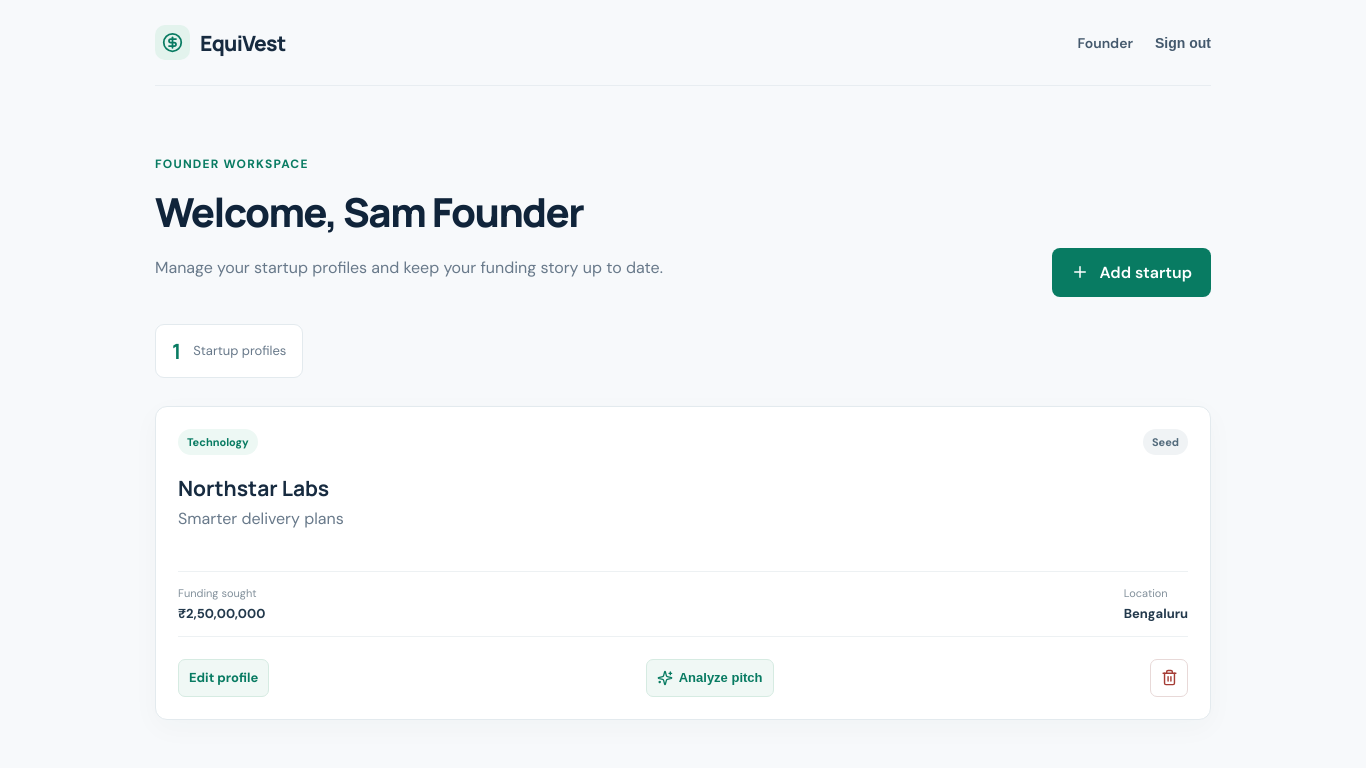
Test: founder startup pages › shows structured pitch feedback and the AI disclaimer
The width and height of the screenshot is (1366, 768).
Click the button "Analyze pitch": (710, 678) [646, 659, 774, 697]
(page scrolled)
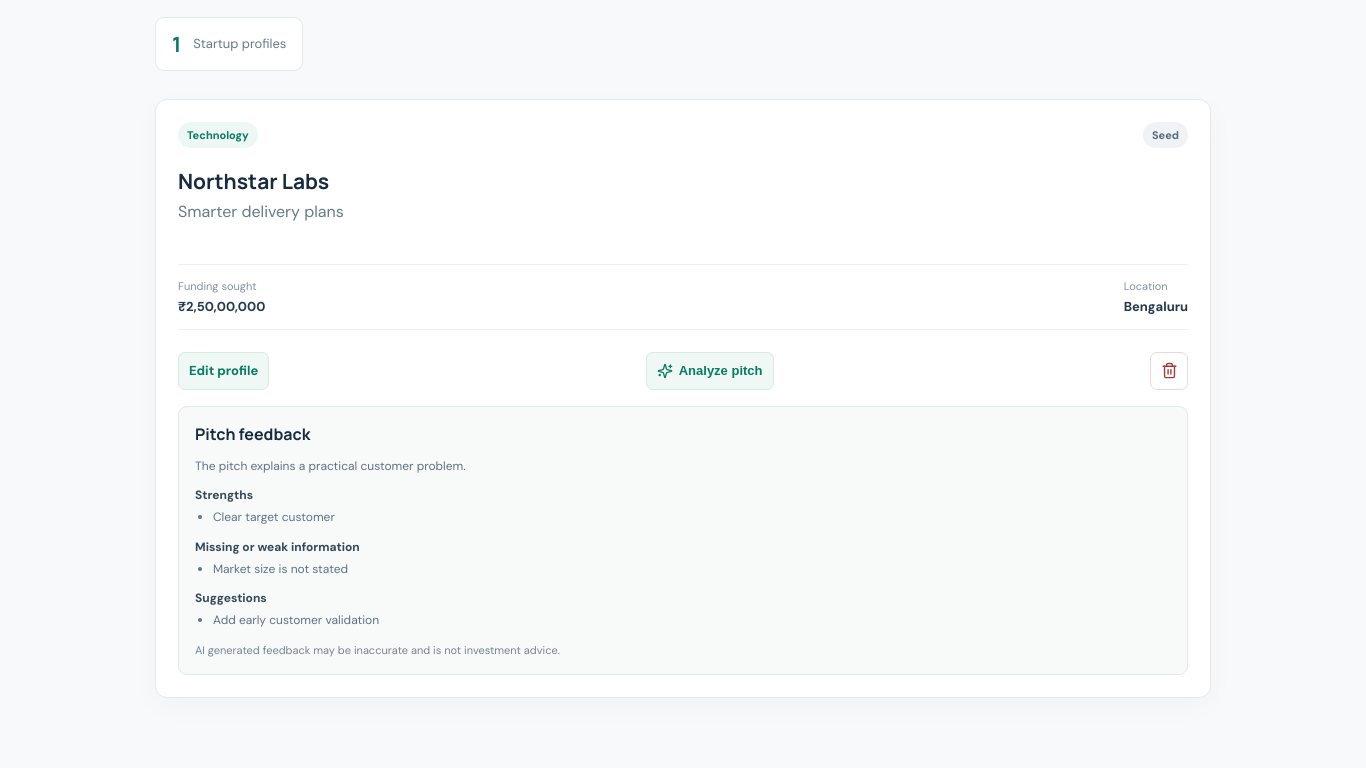
Expected: the heading "Pitch feedback" is shown, [195, 423, 310, 445]
Expected: the list item "Clear target customer" is shown, [213, 509, 335, 525]
Expected: the list item "Market size is not stated" is shown, [213, 561, 348, 577]
